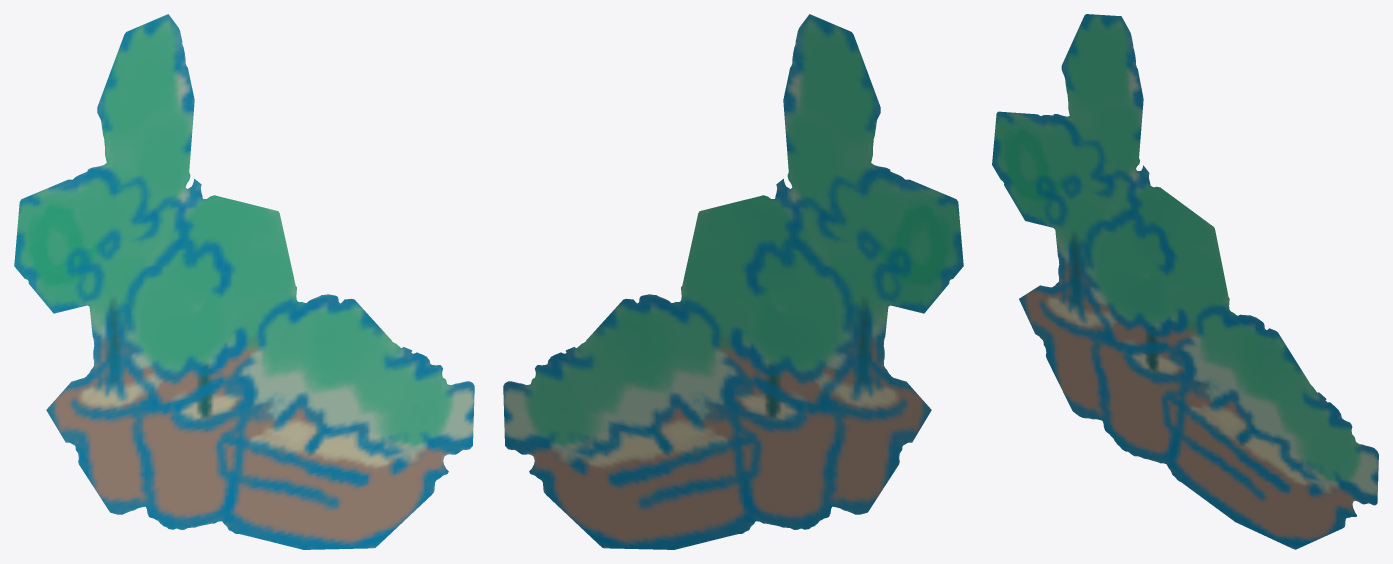
Rendered from house_3_plant.fbx.
The picture shows the model from 3 angles, left to right: view 1: azimuth 30°, elevation 25°; view 2: azimuth 150°, elevation 25°; view 3: azimuth 330°, elevation 25°; orthographic projection. The views are drawn at different scales.
Parts seen in each view (by area): view 1: mask12; view 2: mask12; view 3: mask12.
Boxes of the visible parts, left/top/right/bottom form: mask12: left=14, top=14, right=474, bottom=549; mask12: left=503, top=14, right=963, bottom=549; mask12: left=992, top=14, right=1378, bottom=549.
Bounding box in the file's own units: 3.73 × 4.52 × 0.
Materials: 1 (1 with a texture image).
